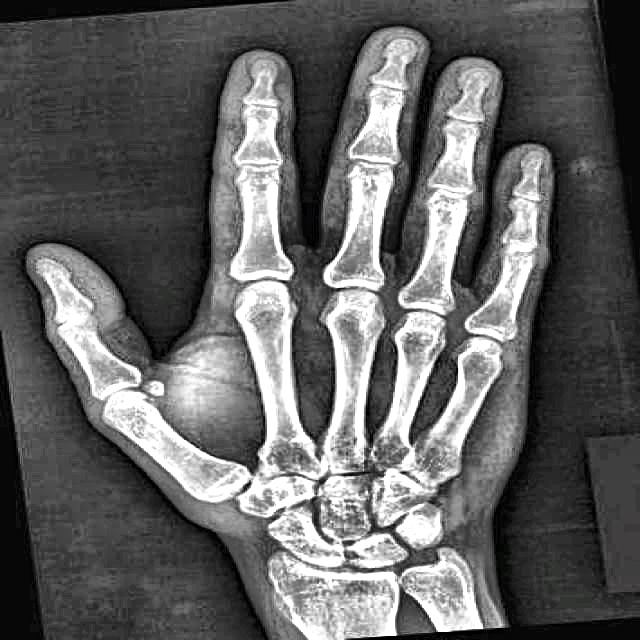Healthy: (79, 67, 576, 594)
